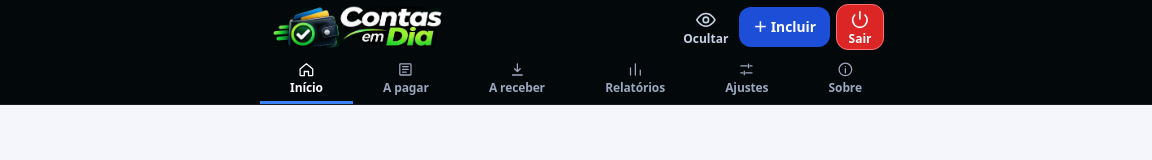
Test: Cabeçalho do app › o olhinho mostra olho aberto com os valores à vista e olho fechado com os valores ocultos, sempre com texto
The width and height of the screenshot is (1152, 160).
Click the button with aria-label "Ocultar valores" at {"x": 706, "y": 27}, box [678,4,733,50]
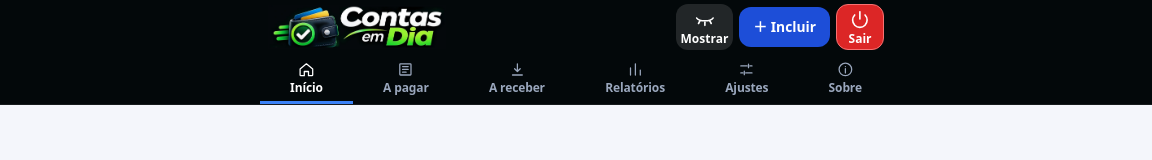
Now the button with aria-label "Mostrar valores" reads "Mostrar", box [676,4,733,50]
